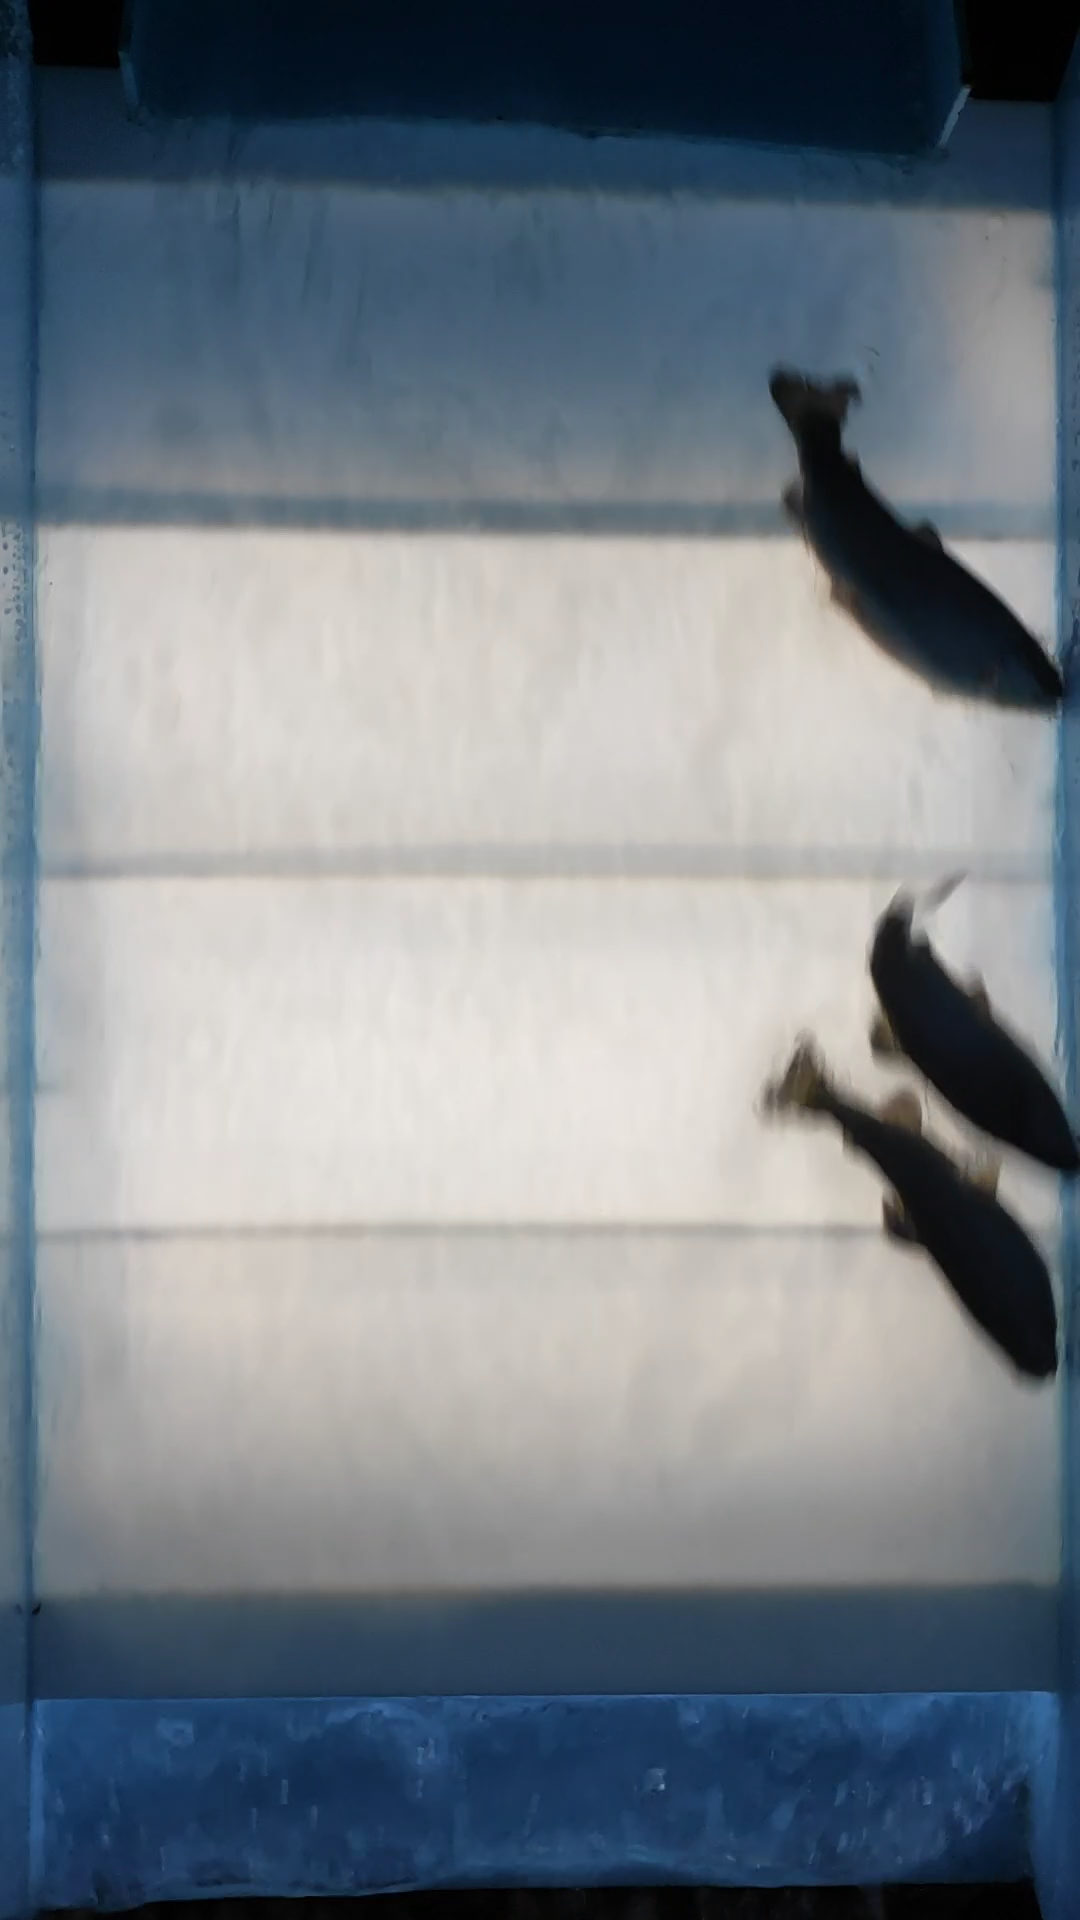fish: (754, 362, 1072, 718), (754, 1036, 1057, 1389), (854, 865, 1080, 1180)
